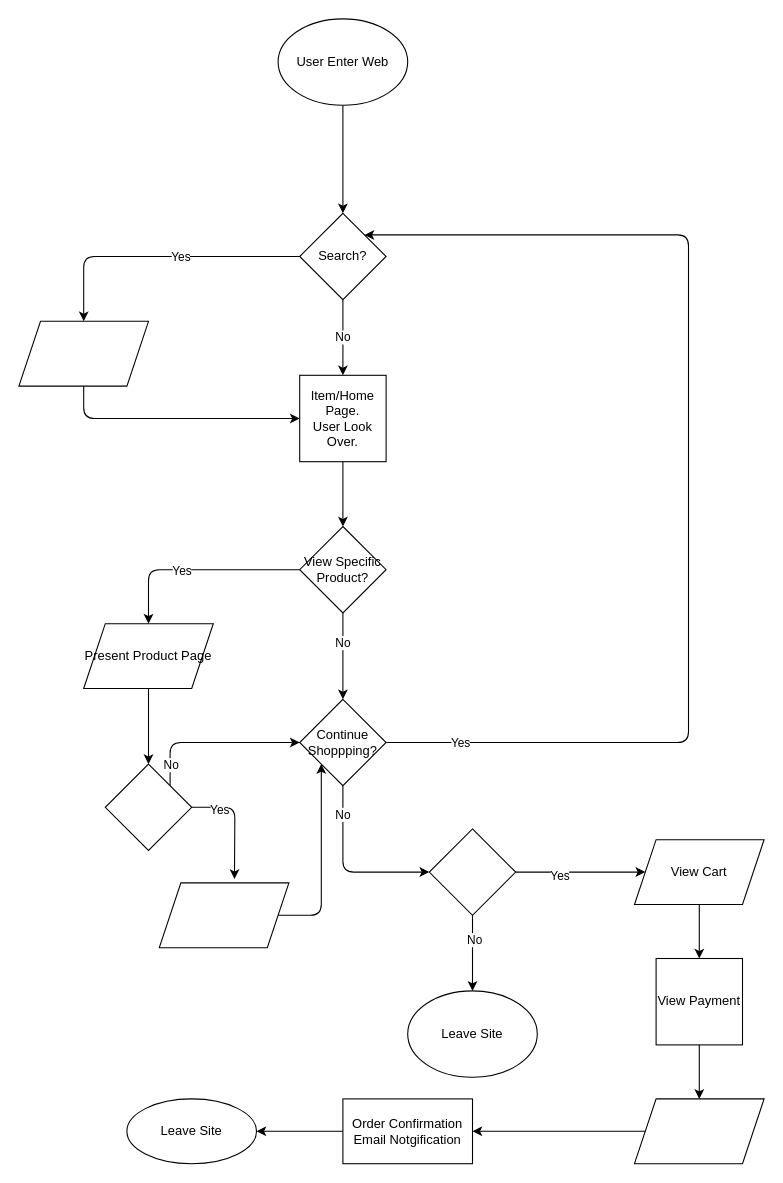
Image size: 783x1183. Some labels were removed from this diagram. Each missing label, with the centre of its shape:
Add to cart confitmation: (223,915)
Add to cart?: (148,806)
Checkout?: (472,871)
Receive Payment Info: (698,1131)
Search with User Provided Input: (83,353)
